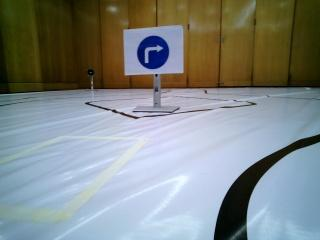right: (129, 33, 180, 74)
